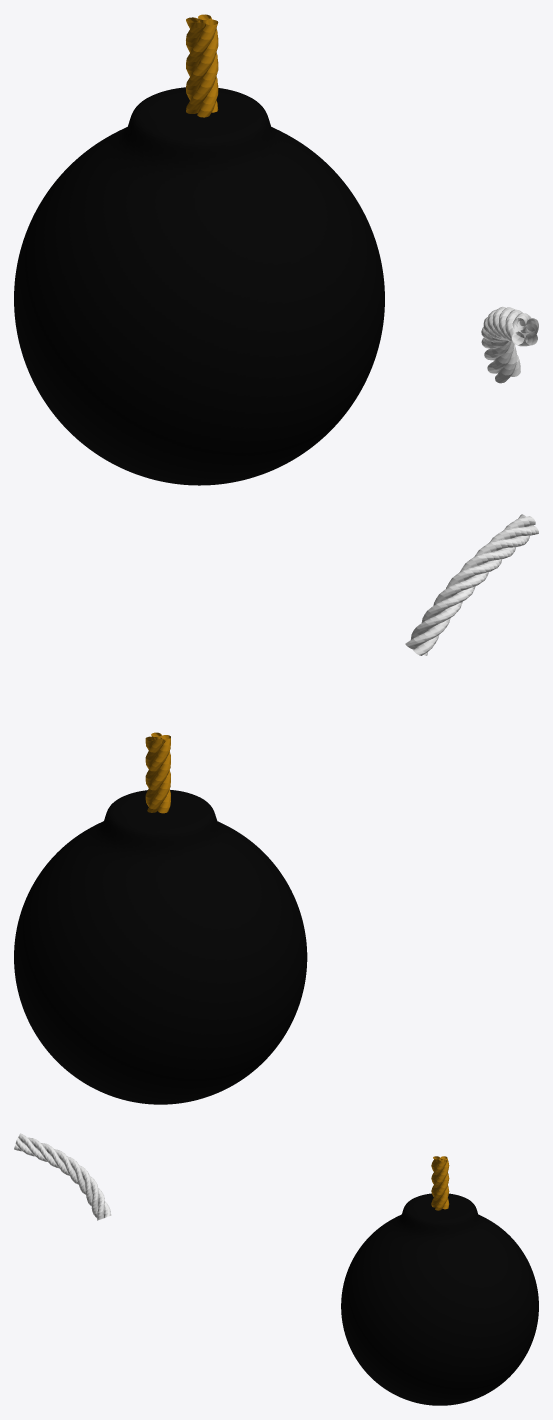
Rendered from bakudan.fbx.
The picture shows the model from 3 angles, top to bottom: view 1: azimuth 30°, elevation 25°; view 2: azimuth 150°, elevation 25°; view 3: azimuth 270°, elevation 25°; orthographic projection. The views are drawn at different scales.
Visible parts, largest first — view 1: 球.001, 円柱.002; view 2: 球.001, 円柱.002; view 3: 球.001, 円柱.002.
Boxes of the visible parts, x1,y1,x2,y2 form: 球.001: (14,14,384,485); 円柱.002: (481,306,538,383); 球.001: (14,732,307,1104); 円柱.002: (405,514,538,655); 球.001: (341,1156,538,1405); 円柱.002: (14,1133,111,1220).
Bounding box in the file's own units: 191 × 259 × 506.
